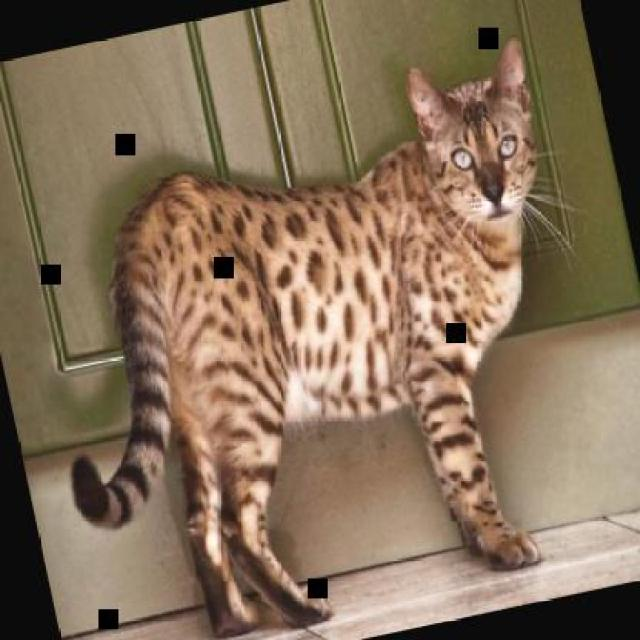cat: (0, 30, 632, 638)
